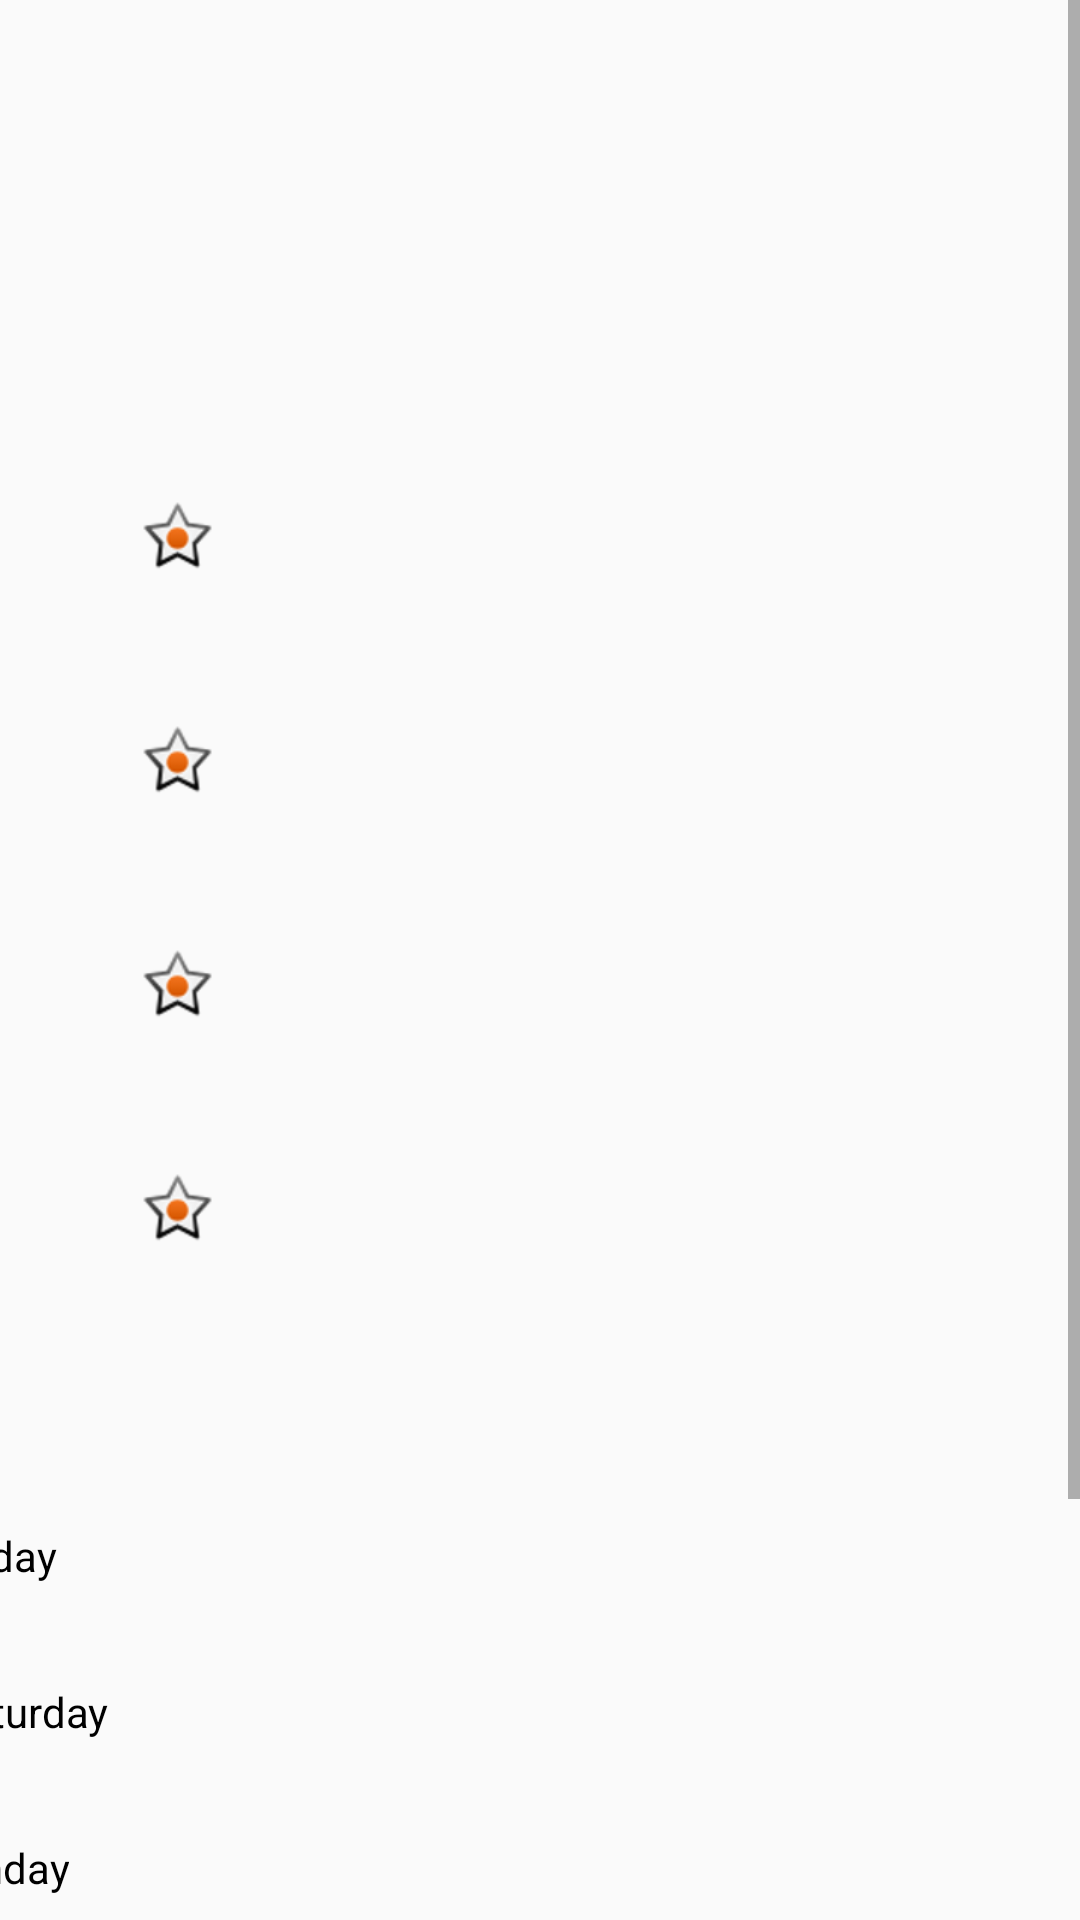

Where icons sit on this 1080px×1920px app screen, as (x1, y1, x2, y2):
star on: (143, 503, 212, 568), (143, 727, 212, 792), (143, 951, 212, 1016), (143, 1175, 212, 1240)
